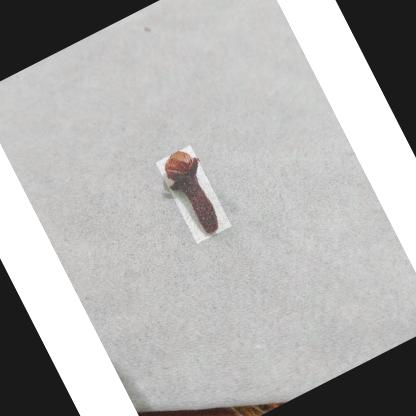baik: (165, 151, 220, 236)
